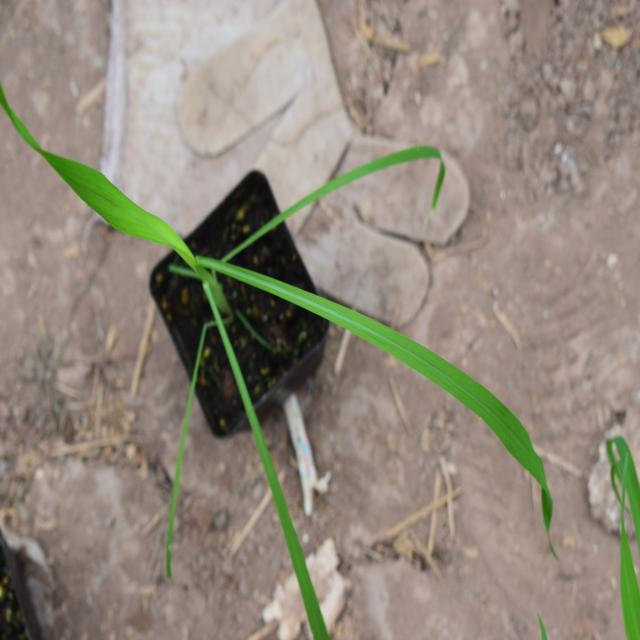barnyard_grass: (34, 125, 530, 510)
